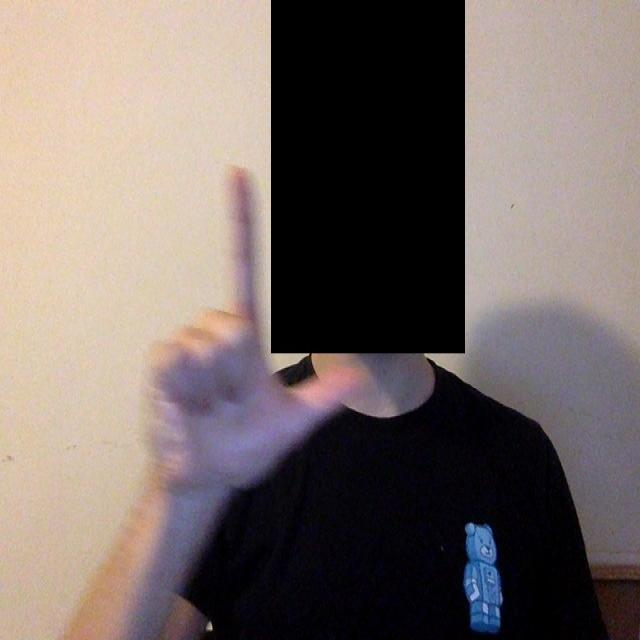L: (115, 128, 367, 522)
